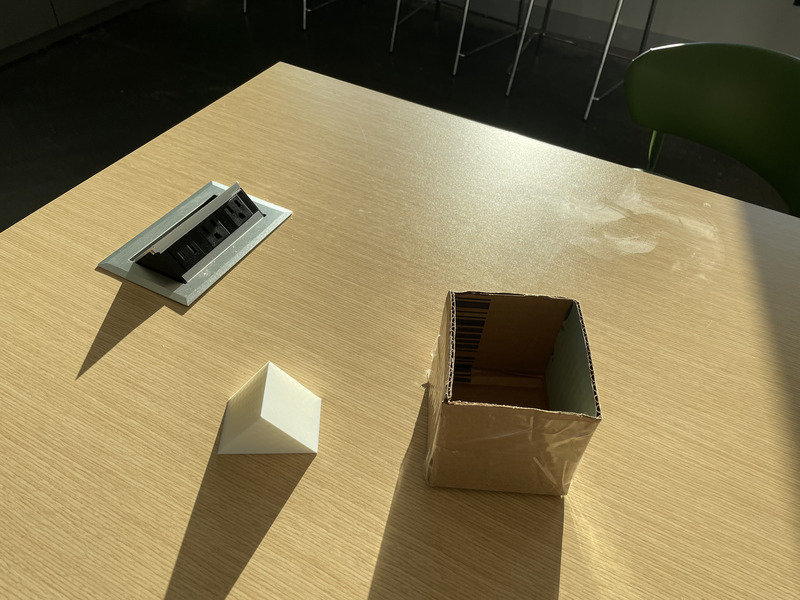payload2: (210, 357, 335, 463)
payload3: (409, 286, 610, 509)
